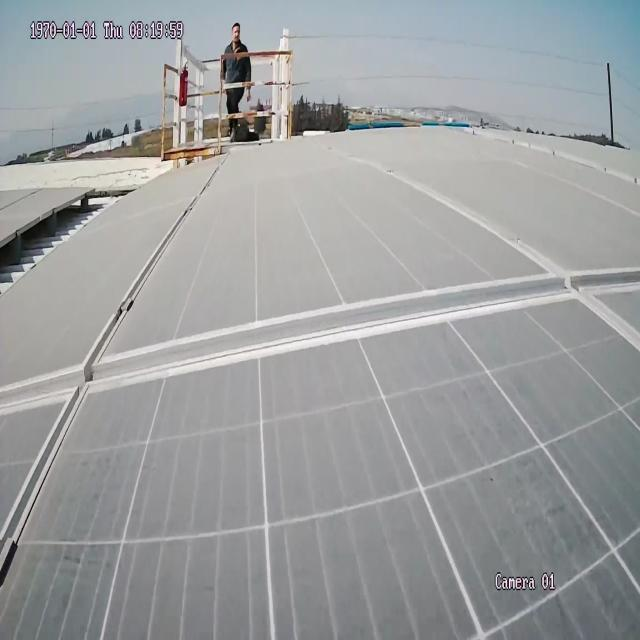interior panel: (0, 142, 640, 614)
outher panel: (0, 187, 141, 305)
